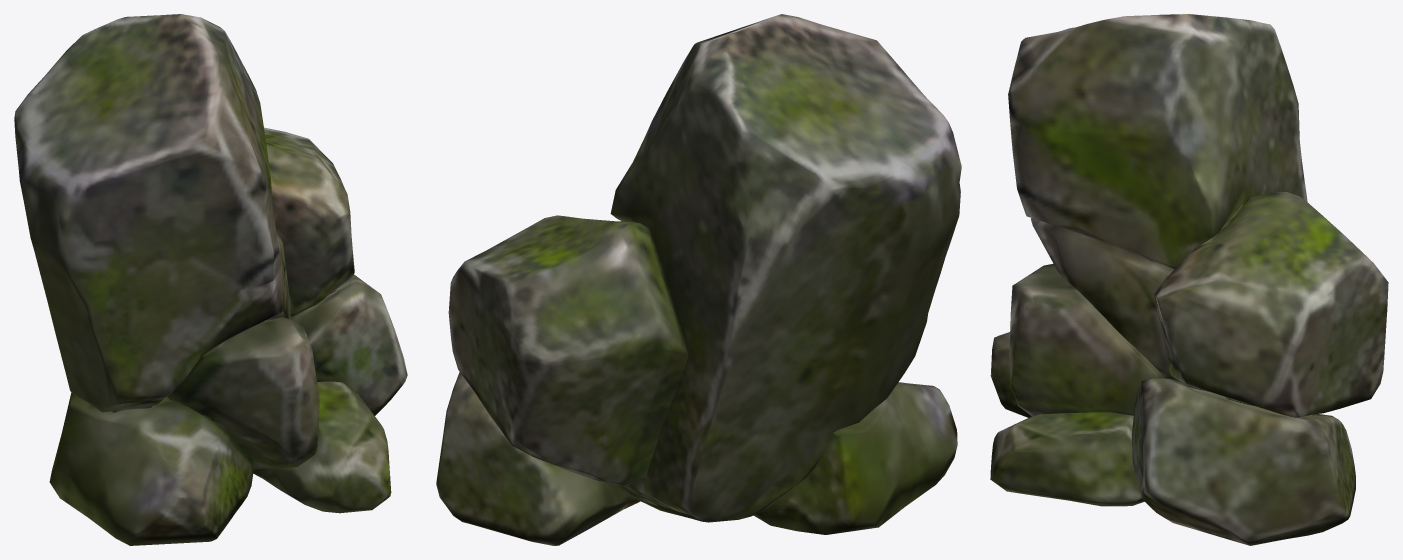
File: Piedras_Apiladas_Grandes.glb
3 views of the same model, side by side, from view 1: azimuth 30°, elevation 25°; view 2: azimuth 150°, elevation 25°; view 3: azimuth 270°, elevation 25° (orthographic). The views are drawn at different scales.
Parts seen in each view (by area): view 1: Piedras Apiladas Grandes; view 2: Piedras Apiladas Grandes; view 3: Piedras Apiladas Grandes.
Part boxes in pixels (x1,y1,x2,y2): Piedras Apiladas Grandes: (14,14,407,545); Piedras Apiladas Grandes: (436,14,961,545); Piedras Apiladas Grandes: (990,14,1388,545).
Size of the model in its own units: 0.1344 by 0.1443 by 0.12.
Materials: 1 (1 with a texture image).
